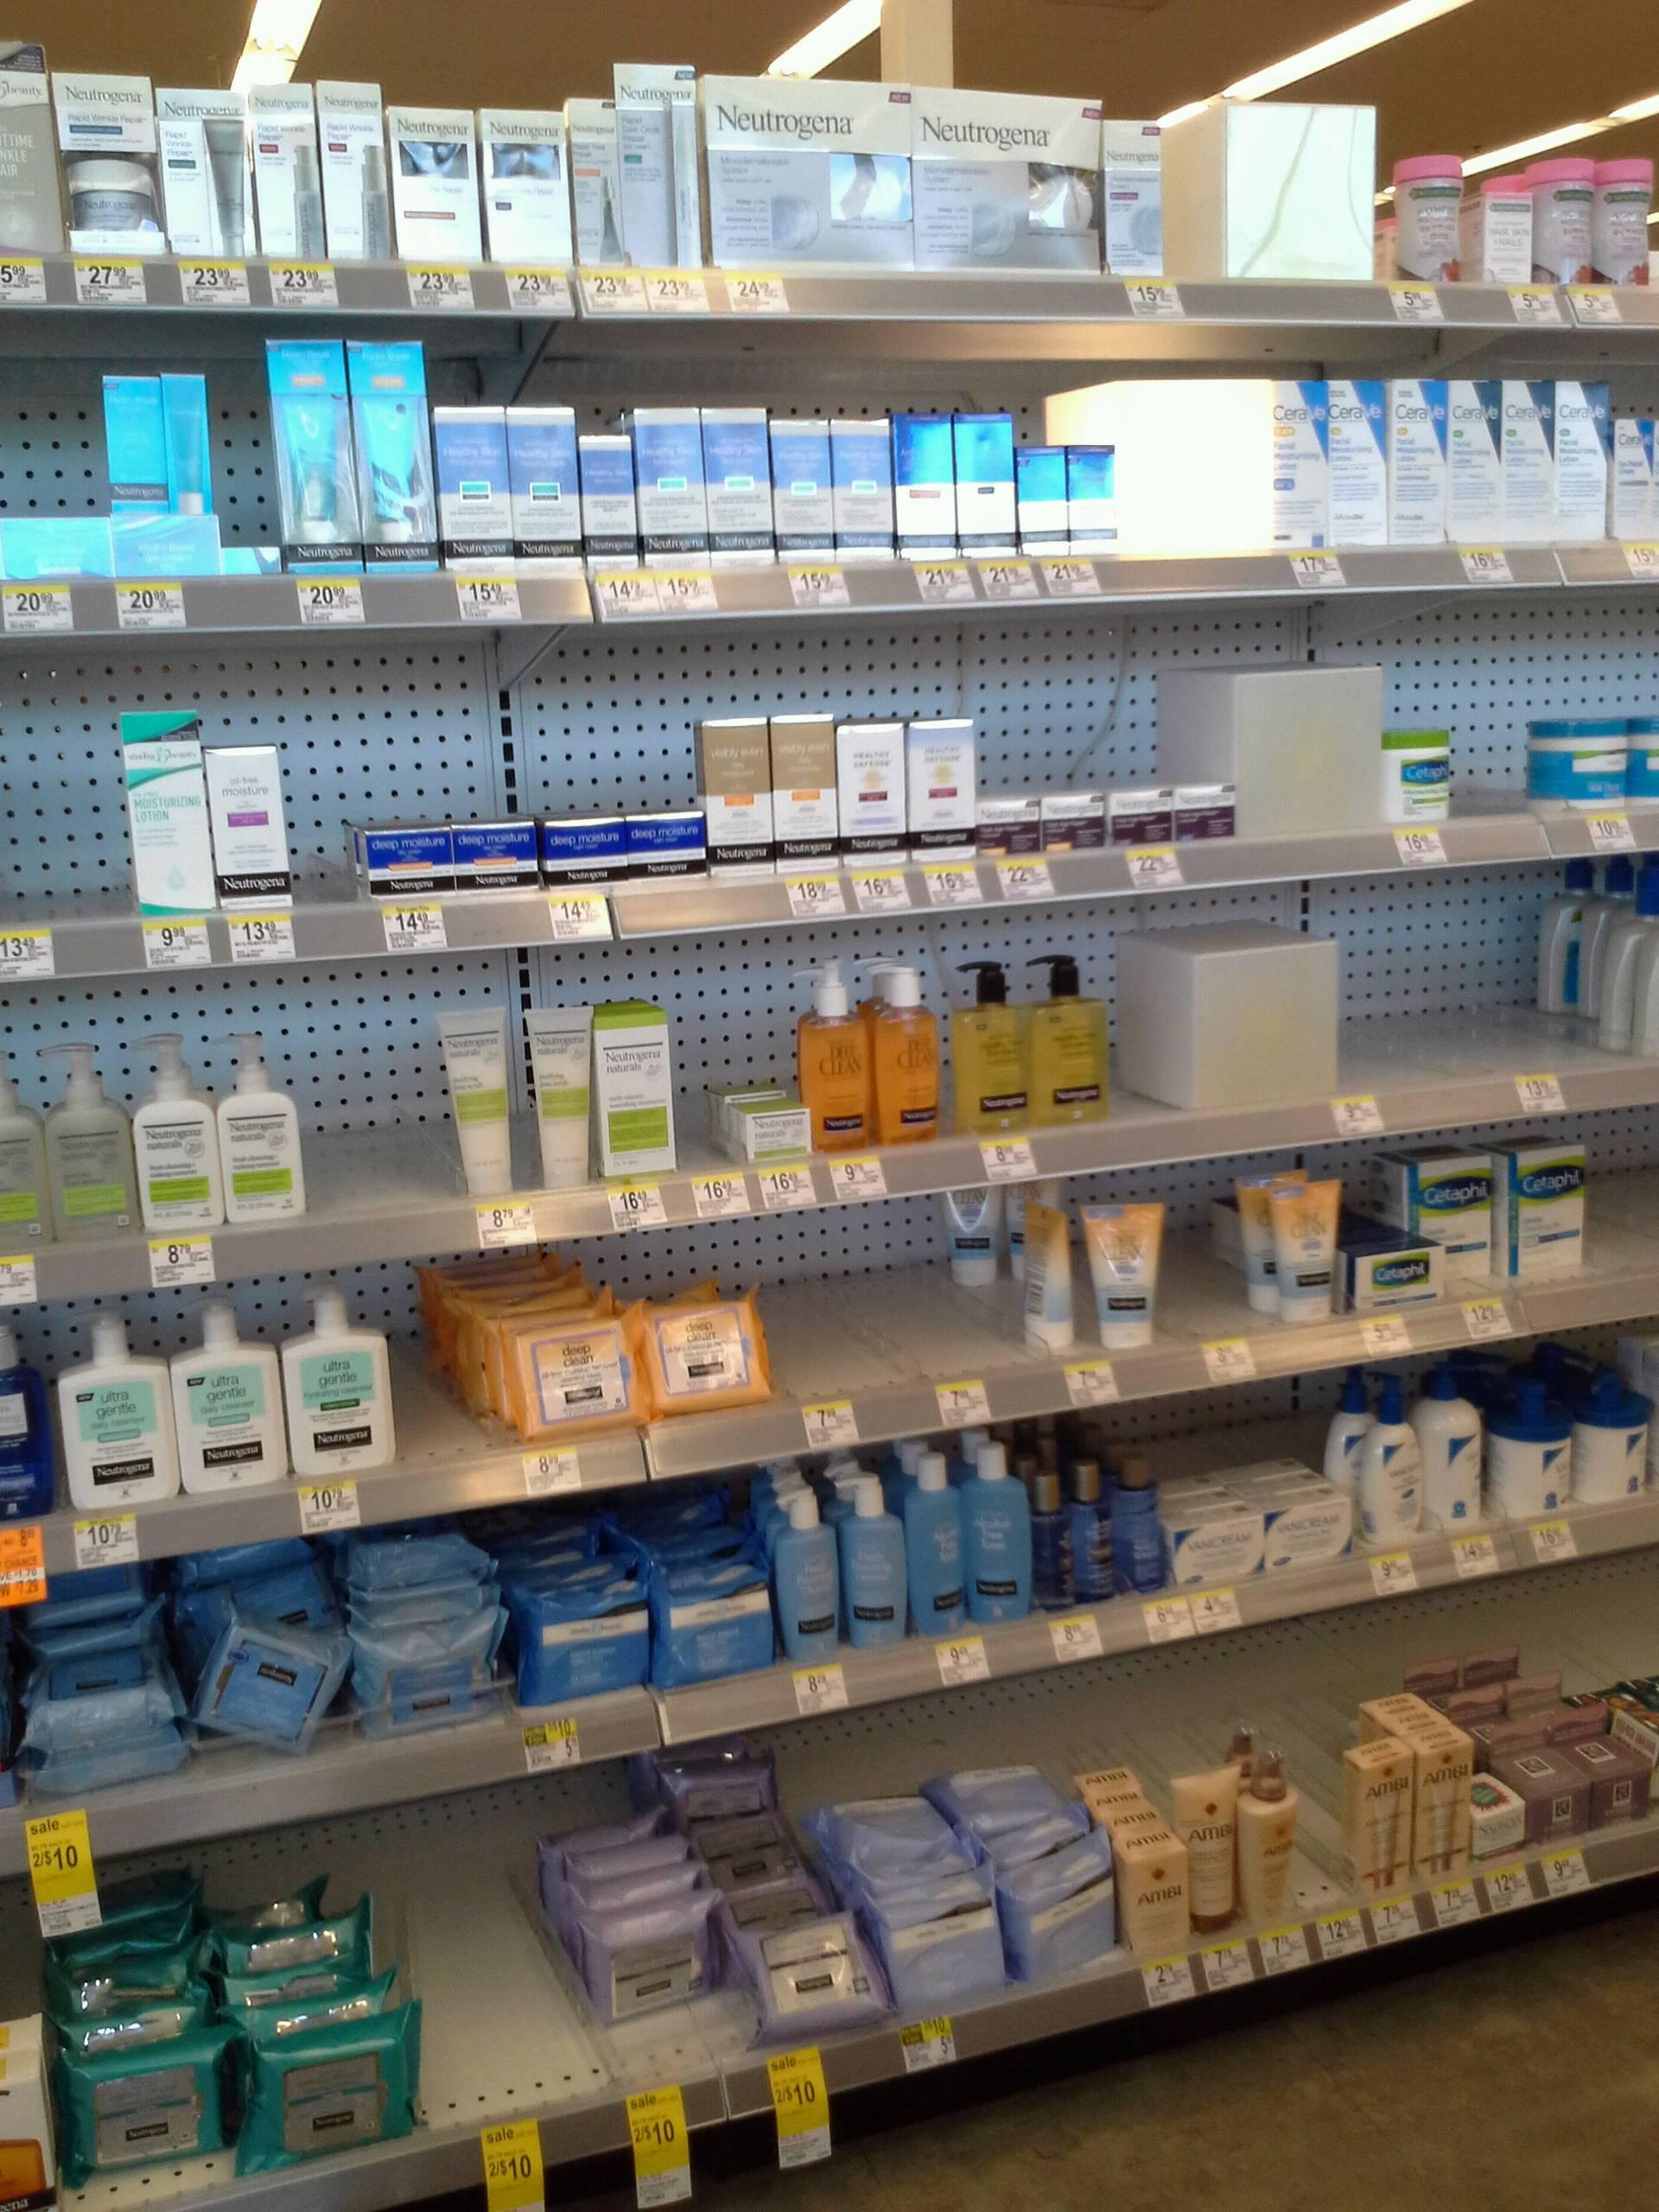empty: (410, 1864, 589, 2101), (0, 327, 103, 524), (1457, 606, 1560, 803), (1349, 906, 1459, 1085), (1478, 897, 1588, 1076), (305, 1062, 444, 1204), (0, 737, 110, 914), (206, 355, 286, 575), (286, 683, 364, 902), (1169, 1157, 1243, 1339), (868, 1197, 941, 1379), (774, 1209, 847, 1392), (403, 1270, 476, 1453), (1586, 1097, 1659, 1278)
